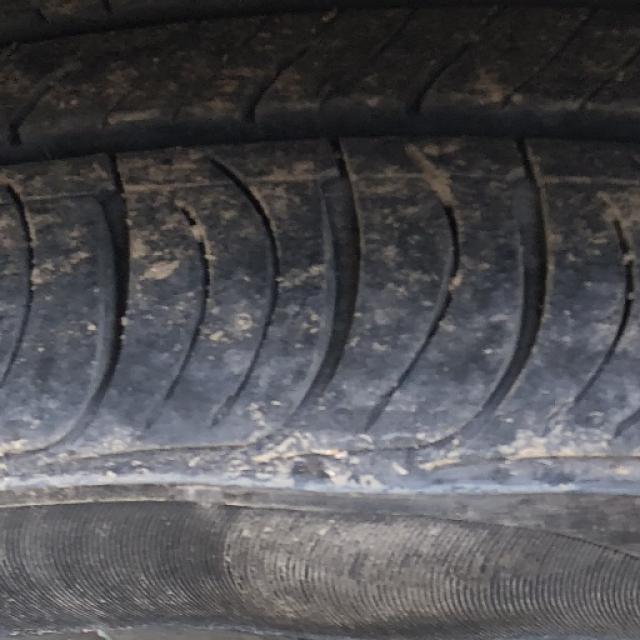Bulge: (200, 490, 566, 639)
